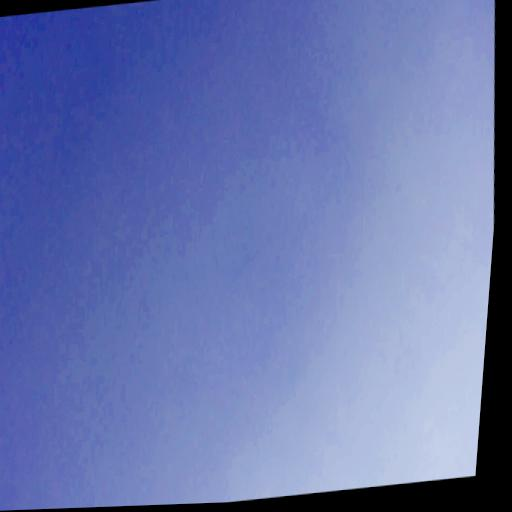drones: (198, 182, 205, 191)
